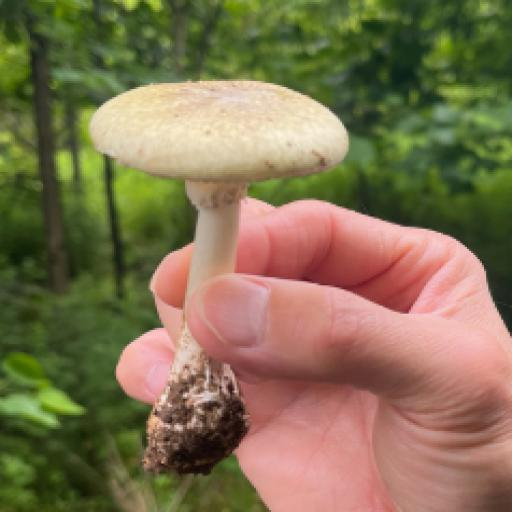mushroom: (88, 73, 367, 478)
